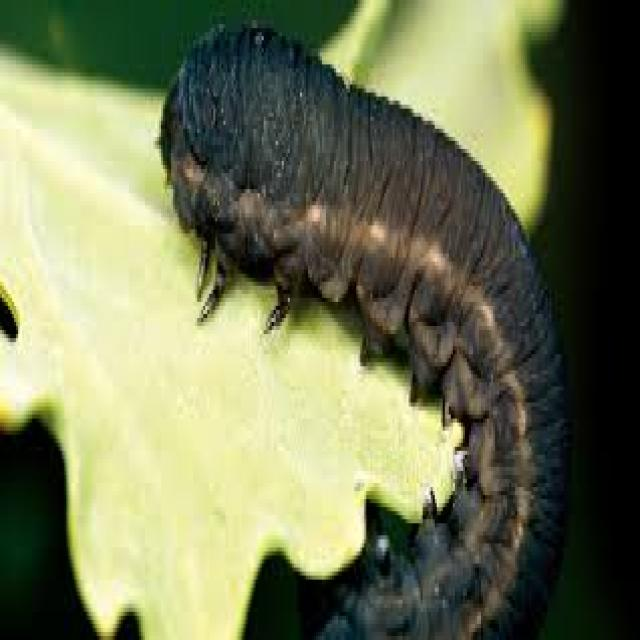Saw Fly: (152, 9, 570, 640)
